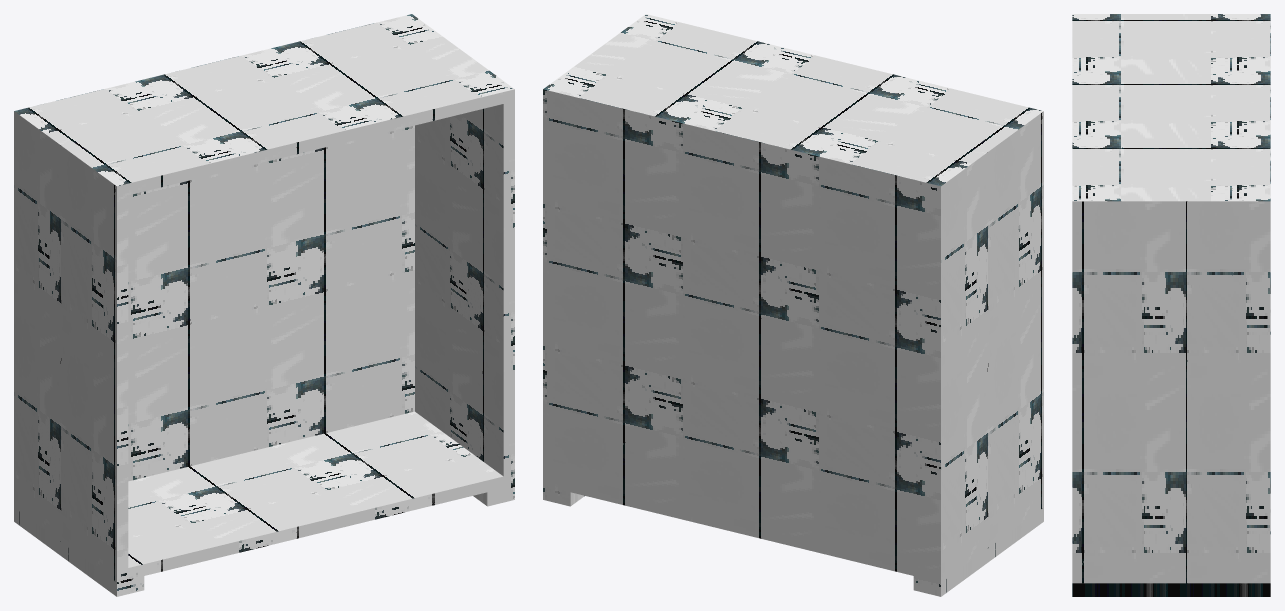
The model's file is WarddrobeBody.FBX.
3 views of the same model, side by side, from view 1: azimuth 30°, elevation 25°; view 2: azimuth 150°, elevation 25°; view 3: azimuth 270°, elevation 25° (orthographic). The views are drawn at different scales.
Parts seen in each view (by area): view 1: Wardrobe; view 2: Wardrobe; view 3: Wardrobe.
Part boxes in pixels (left/top/right/bottom): Wardrobe: left=14, top=14, right=514, bottom=596; Wardrobe: left=543, top=14, right=1043, bottom=596; Wardrobe: left=1072, top=14, right=1270, bottom=596.
Size of the model in its own units: 3.84 by 1.72 by 3.79.
1 material, 1 textured.
